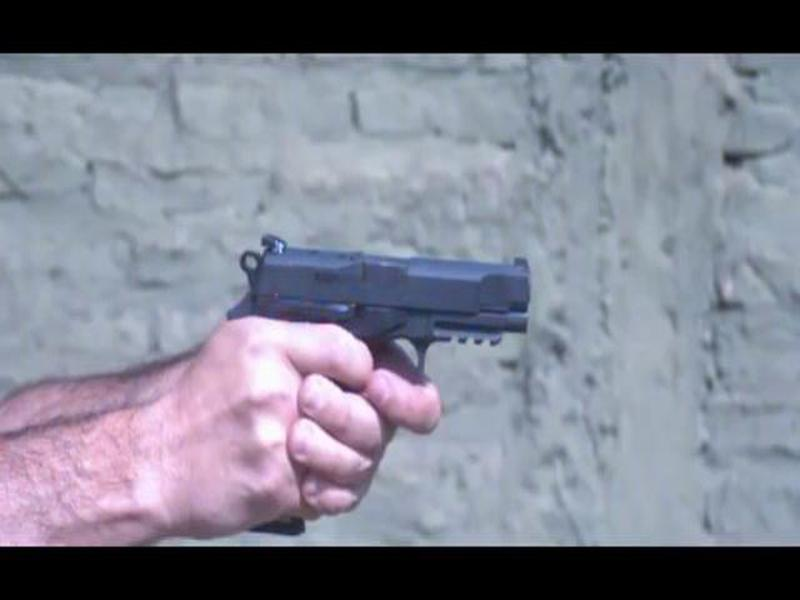Pistola: (183, 224, 540, 540)
